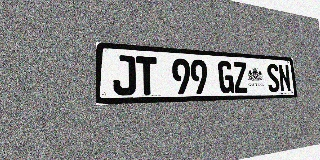9: (172, 58, 191, 94), (190, 59, 208, 94)
G: (218, 61, 234, 93)
J: (113, 55, 136, 96)
N: (278, 64, 291, 92)
S: (266, 63, 280, 92)
T: (136, 56, 158, 95)
Z: (232, 62, 248, 93)
